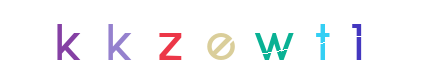1: (274, 0, 354, 80)
E: (175, 0, 255, 80)
K: (94, 0, 174, 80), (126, 0, 206, 80)
T: (234, 0, 314, 80)
W: (178, 0, 258, 80)
Z: (130, 0, 210, 80)
